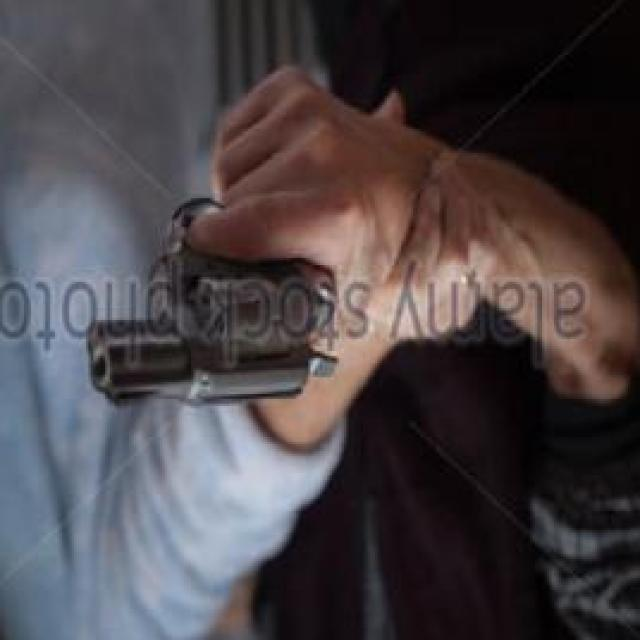pistol: (87, 190, 339, 420)
